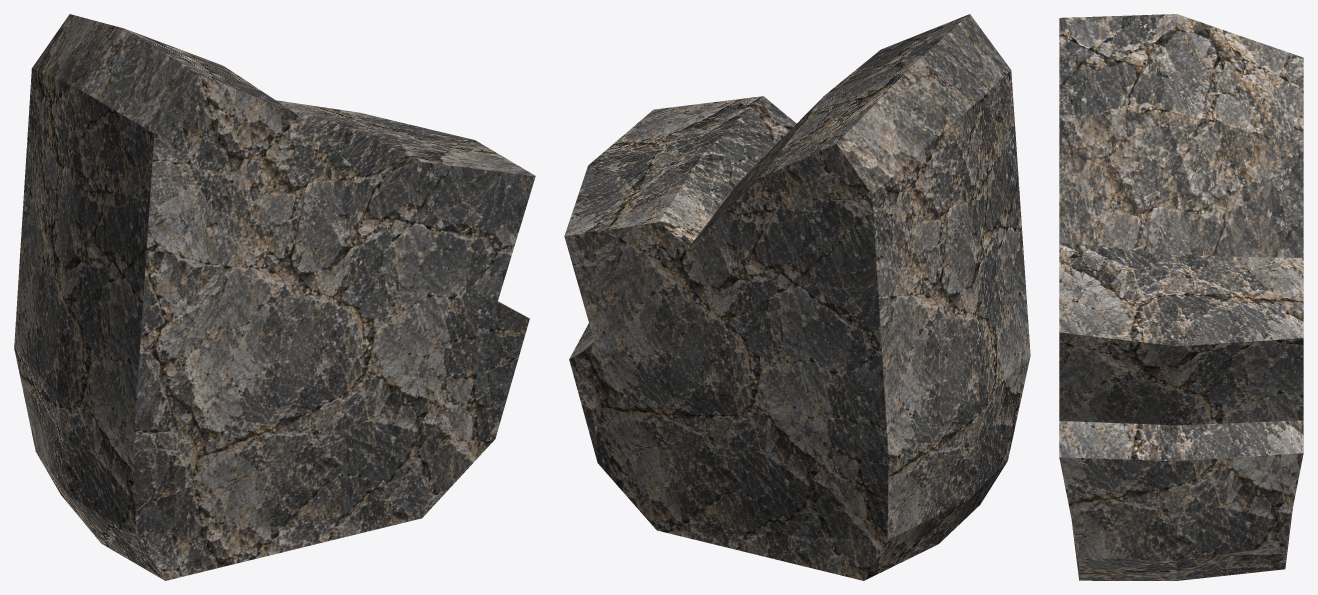
File: ReferenceSlate.fbx
The picture shows the model from 3 angles, left to right: view 1: azimuth 30°, elevation 25°; view 2: azimuth 150°, elevation 25°; view 3: azimuth 270°, elevation 25°; orthographic projection. The views are drawn at different scales.
Parts seen in each view (by area): view 1: ReferenceRock_FracturedSlate_01; view 2: ReferenceRock_FracturedSlate_01; view 3: ReferenceRock_FracturedSlate_01.
Boxes of the visible parts, x1,y1,x2,y2 form: ReferenceRock_FracturedSlate_01: (14, 14, 535, 580); ReferenceRock_FracturedSlate_01: (564, 14, 1030, 580); ReferenceRock_FracturedSlate_01: (1059, 14, 1303, 580).
Bounding box in the file's own units: 285 × 332 × 160.
1 material, 1 textured.
